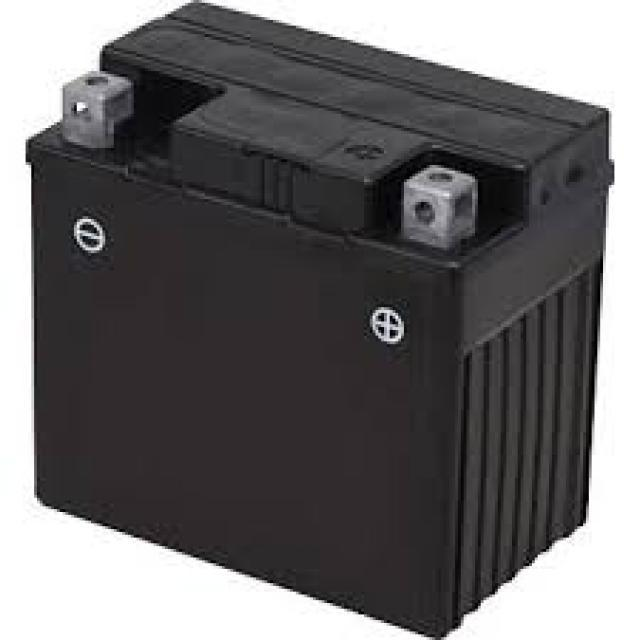battery: (25, 0, 612, 640)
